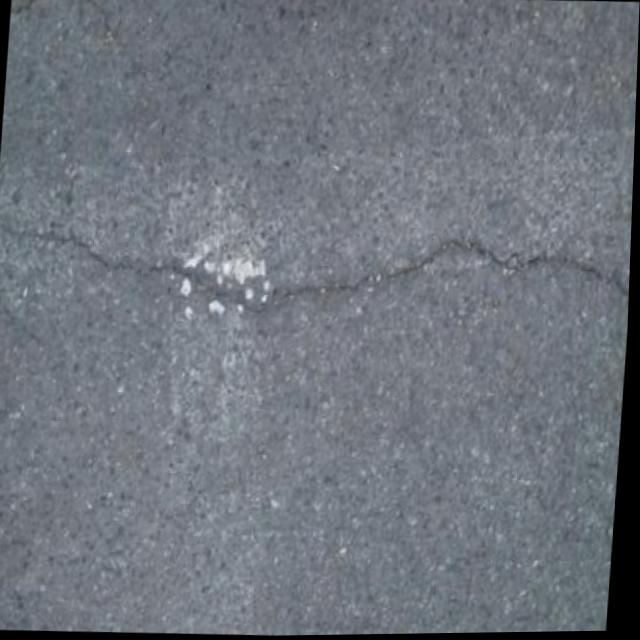Crack: (0, 142, 636, 367)
